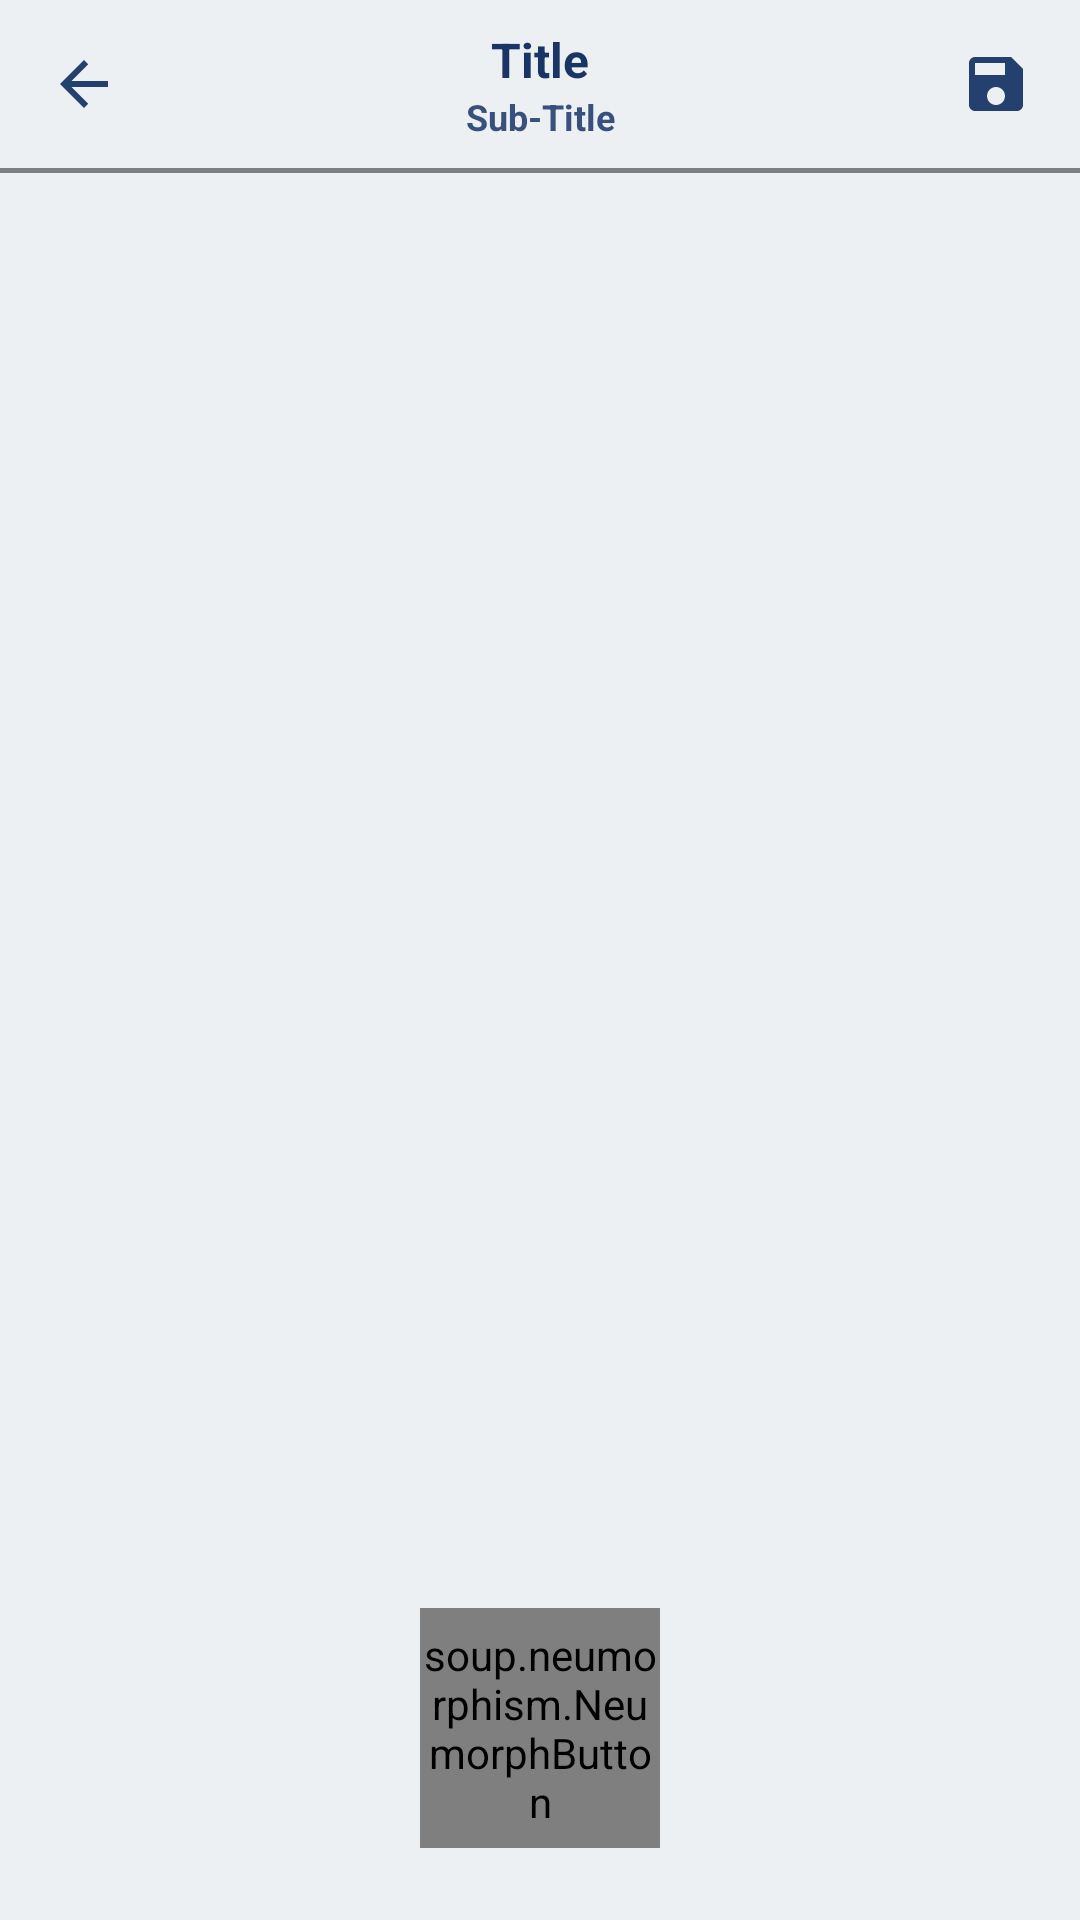

Screen size 1080px x 1920px. Icon name, then its center in pixels as (x,y):
back: (84,84)
save: (996,84)
